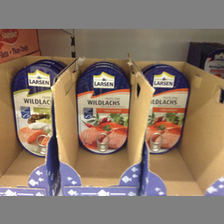fish: (76, 66, 131, 155), (145, 66, 190, 154), (13, 63, 55, 156)
